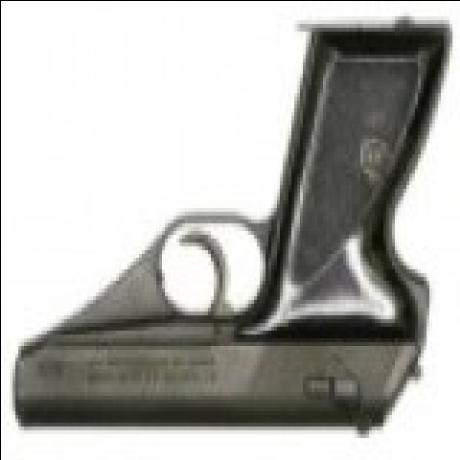weapon: (7, 19, 451, 444)
